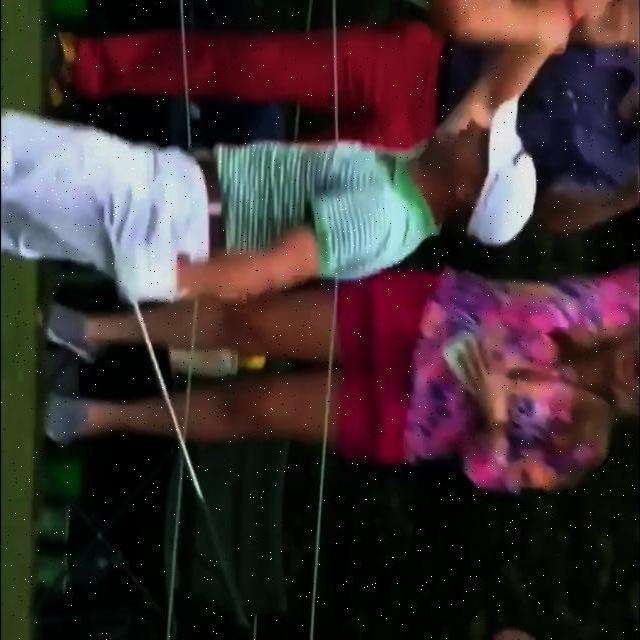ClubHandle: (87, 195, 263, 639)
